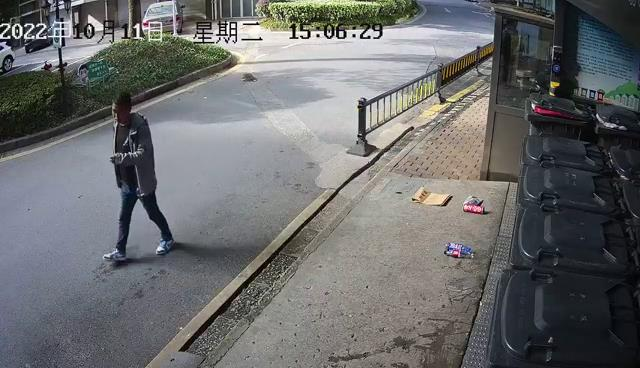lvzhipin: (441, 240, 476, 261), (461, 203, 486, 214)
person: (100, 90, 176, 262)
zhizhipin: (409, 185, 453, 209)
